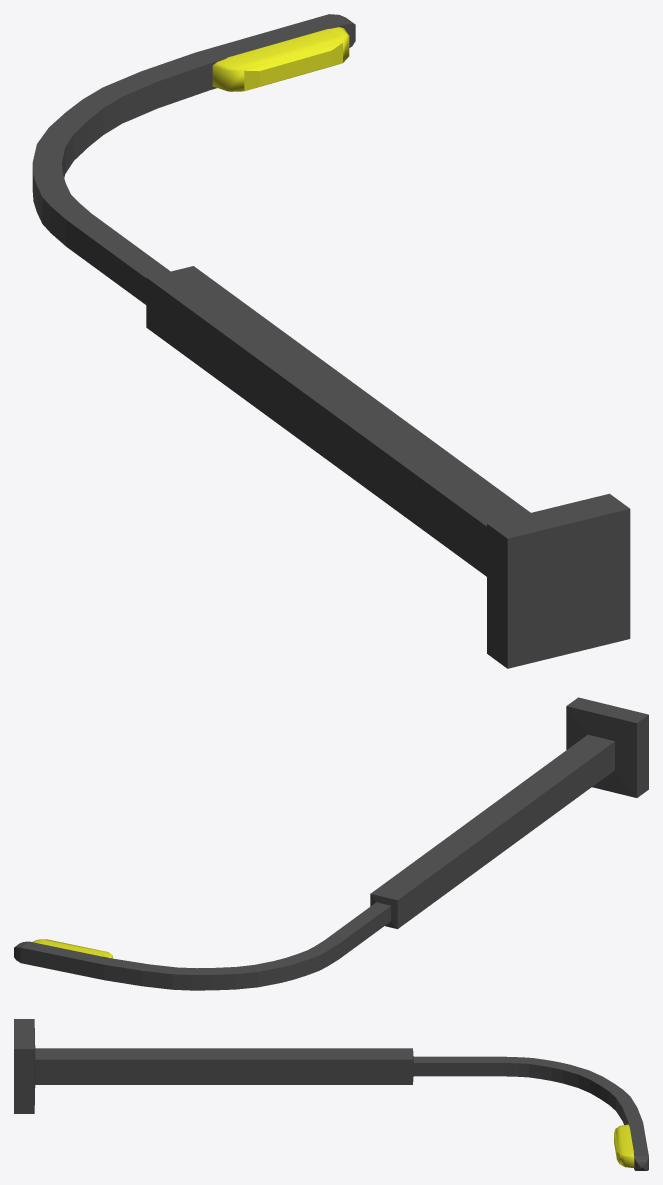
Rendered from LightStreet1.FBX.
3 views of the same model, one above another, from view 1: azimuth 30°, elevation 25°; view 2: azimuth 150°, elevation 25°; view 3: azimuth 270°, elevation 25° (orthographic). The views are drawn at different scales.
Parts seen in each view (by area): view 1: lamppost; view 2: lamppost; view 3: lamppost.
Boxes of the visible parts, bbox=[...] form: lamppost: bbox=[32, 14, 630, 668]; lamppost: bbox=[14, 697, 648, 990]; lamppost: bbox=[14, 1019, 648, 1170].
Size of the model in its own units: 34.42 by 9.03 by 79.89.
